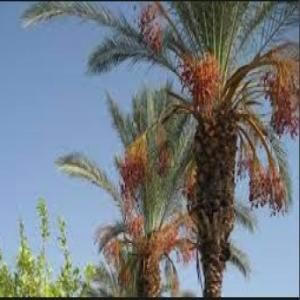palm tree: (19, 0, 298, 297)
